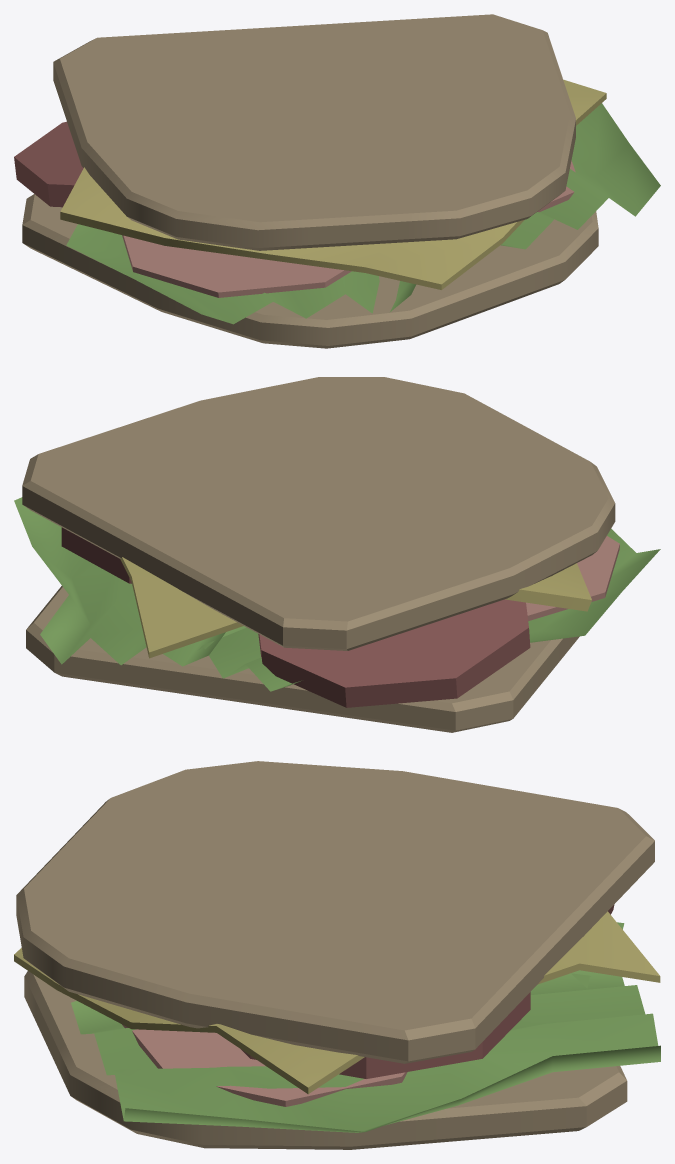
Rendered from lunch.fbx.
3 renders of one model, top to bottom at view 1: azimuth 30°, elevation 25°; view 2: azimuth 150°, elevation 25°; view 3: azimuth 270°, elevation 25°, orthographic. The views are drawn at different scales.
Visible parts, largest first — view 1: lunch; view 2: lunch; view 3: lunch.
Part boxes in pixels (x1=…): lunch: x1=14, y1=14, x2=660, y2=348; lunch: x1=14, y1=377, x2=660, y2=732; lunch: x1=14, y1=761, x2=660, y2=1149.
Size of the model in its own units: 17.42 by 3.64 by 15.23.
